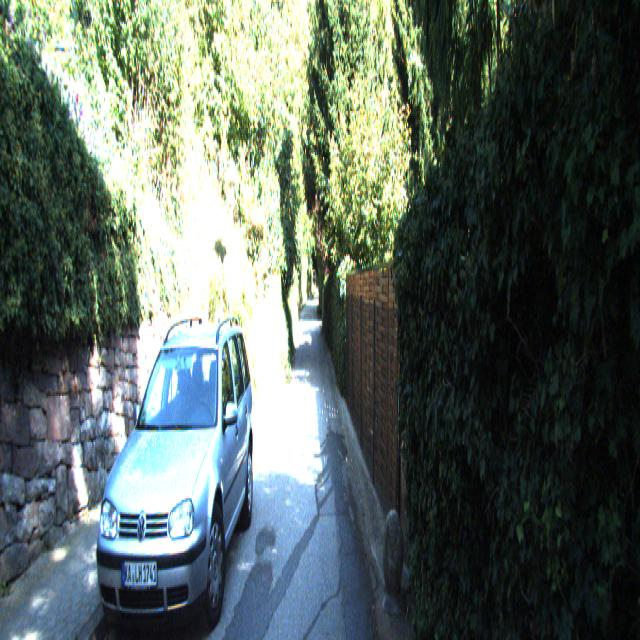Car: (92, 310, 257, 638)
